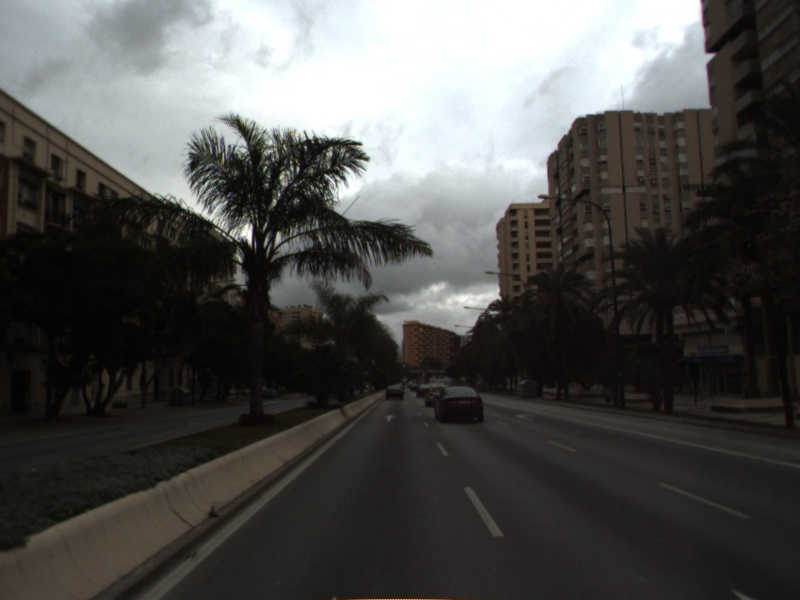RIGHT: (512, 411, 537, 424)
STRAIGHT: (381, 412, 399, 424)
